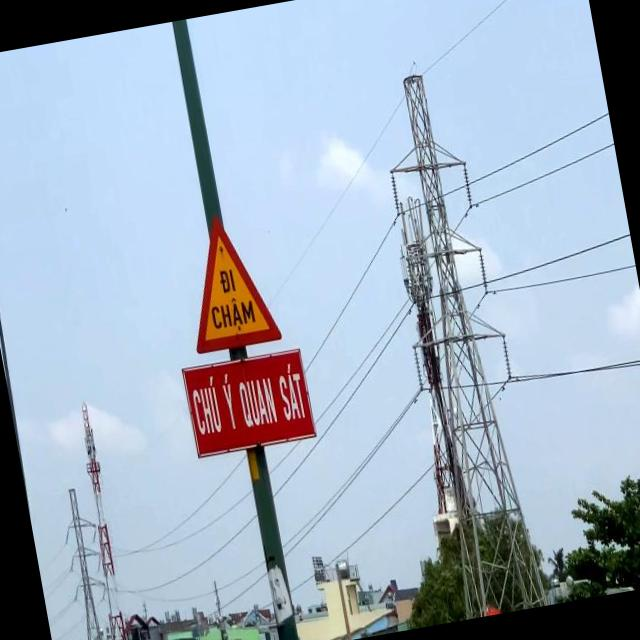W-245a: (172, 202, 282, 356)
